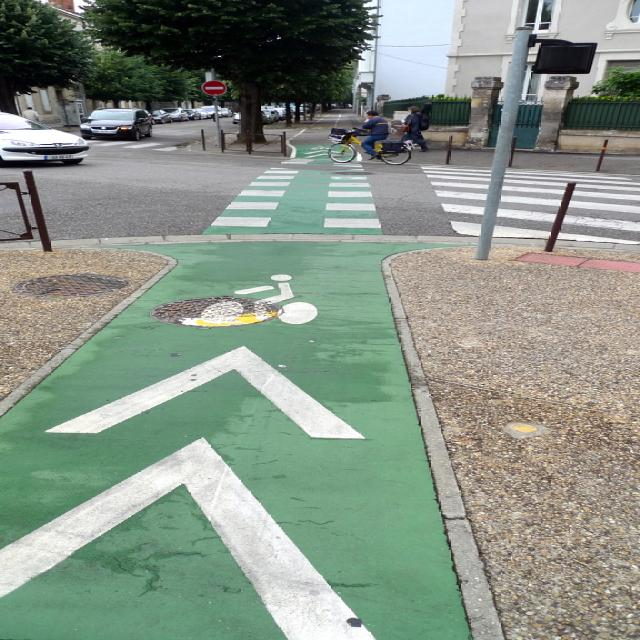car: (79, 107, 152, 142)
